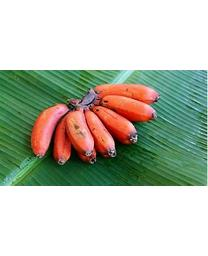banana: (30, 83, 159, 165)
